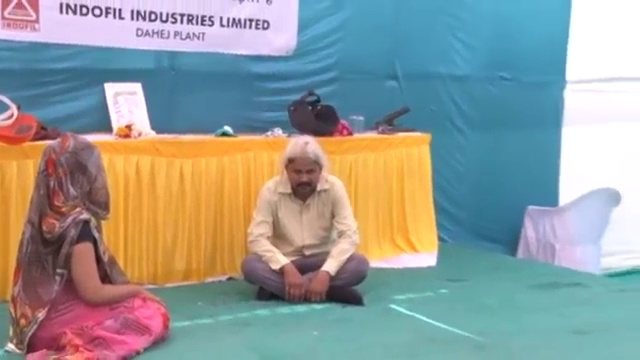helmet_off: (34, 136, 109, 219), (284, 138, 322, 197)
person: (1, 134, 172, 360), (239, 134, 371, 309)
